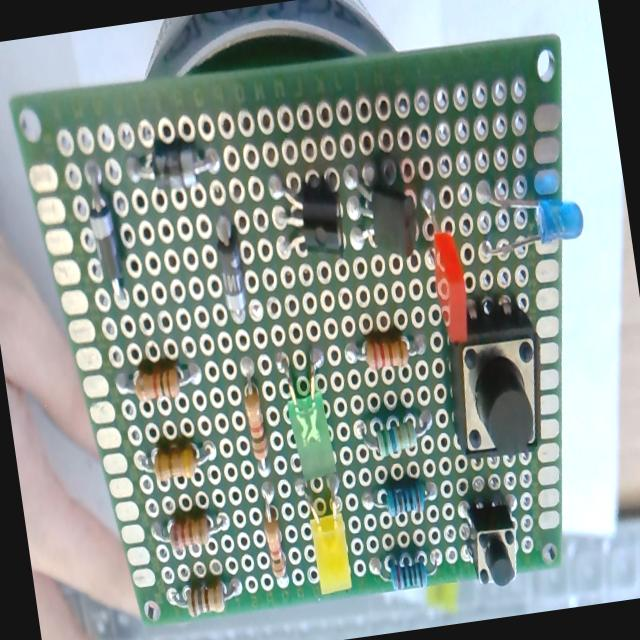diode: (82, 148, 134, 316), (196, 206, 258, 328), (120, 132, 228, 200)
led: (466, 164, 592, 274), (274, 340, 346, 484), (414, 180, 476, 345), (296, 472, 362, 600)
resistor: (130, 432, 224, 488), (113, 357, 206, 413), (162, 566, 248, 626), (368, 543, 450, 601), (352, 408, 436, 464), (148, 506, 236, 559), (238, 354, 275, 476), (256, 479, 294, 597), (342, 330, 428, 378), (359, 472, 441, 522)
switch: (428, 296, 560, 466), (459, 492, 529, 596)
transistor: (263, 155, 354, 281), (336, 158, 422, 274)
